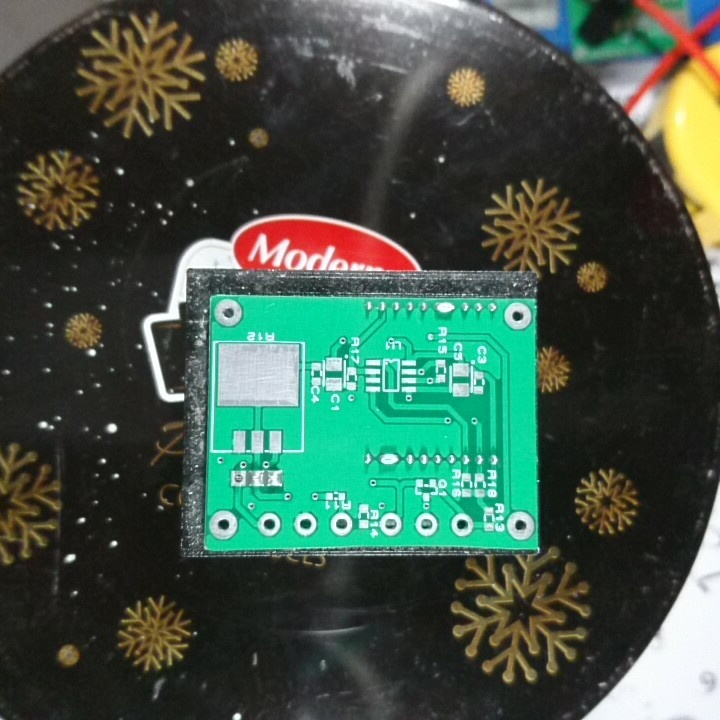F: (213, 296, 245, 331), (207, 509, 240, 541), (501, 300, 533, 331), (505, 510, 535, 543), (291, 509, 321, 540), (412, 510, 441, 540), (327, 509, 356, 539), (256, 509, 283, 540), (448, 511, 476, 540), (376, 512, 404, 538), (227, 467, 247, 490)
P: (375, 449, 402, 469), (433, 298, 457, 319)
